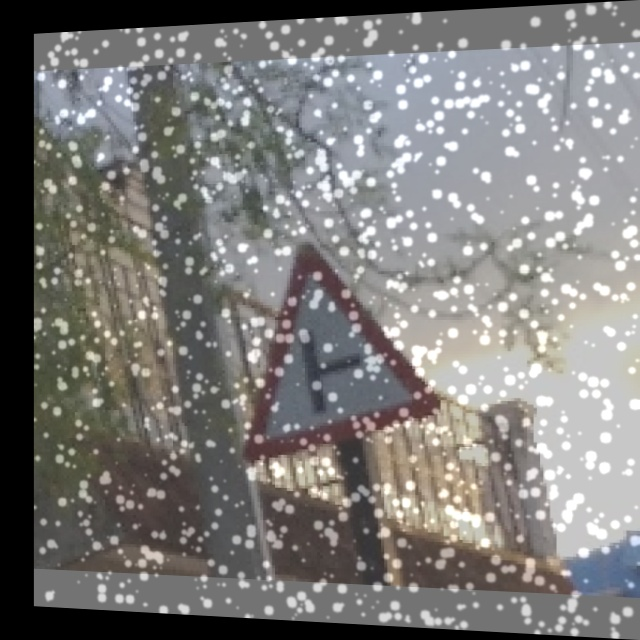Side_Road_Right: (230, 241, 426, 447)
